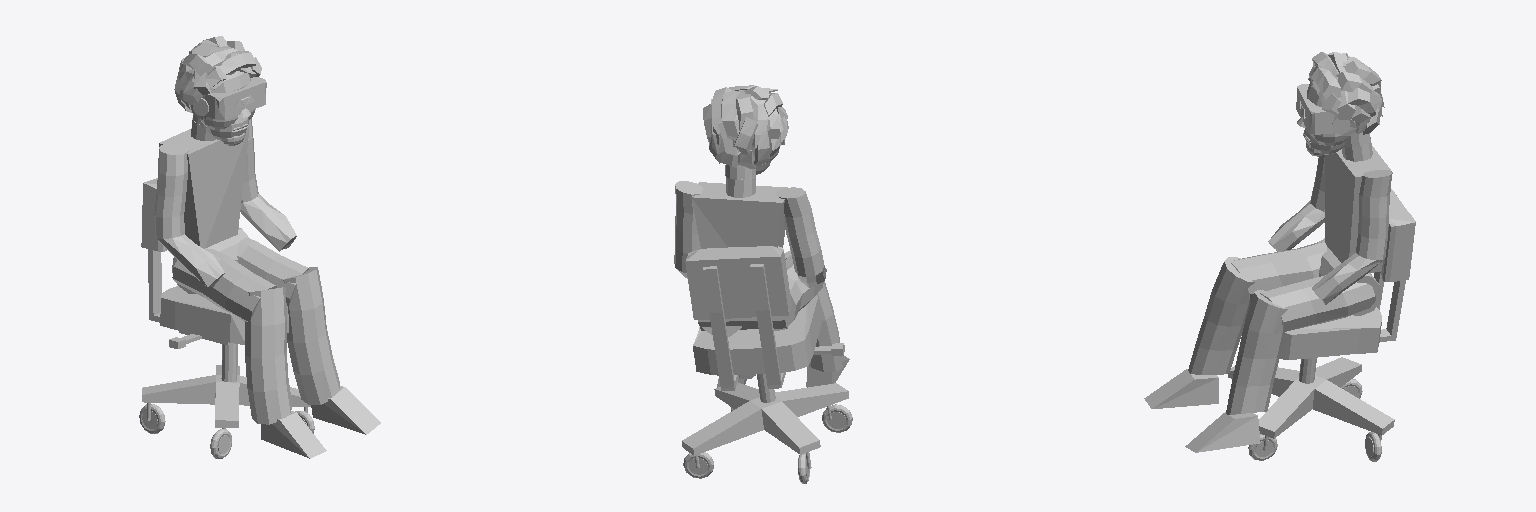
File: chair-student.obj
3 views of the same model, side by side, from view 1: azimuth 30°, elevation 25°; view 2: azimuth 150°, elevation 25°; view 3: azimuth 270°, elevation 25° (orthographic).
Visible parts, largest first — view 1: group[number redacted]; view 2: group[number redacted]; view 3: group[number redacted].
Part boxes in pixels (x1,y1,x2,y2): group[number redacted]: (139,36,380,458); group[number redacted]: (674,85,852,483); group[number redacted]: (1144,52,1415,461).
Bounding box in the file's own units: 0.5962 × 1.32 × 0.8418.